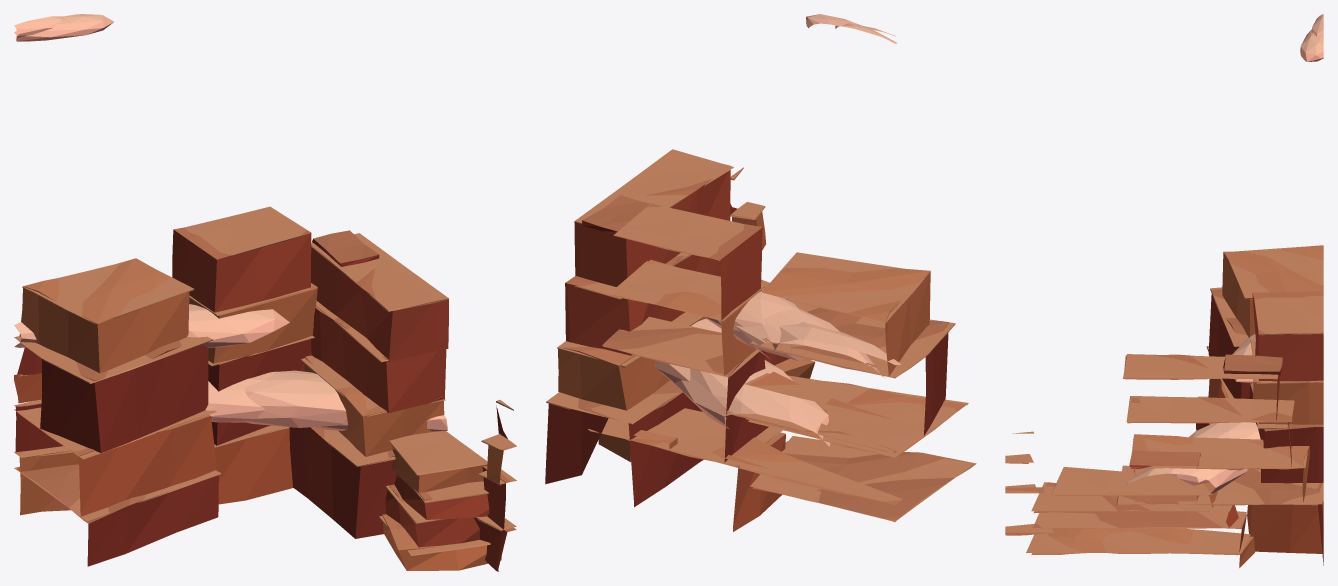
The picture shows the model from 3 angles, left to right: view 1: azimuth 30°, elevation 25°; view 2: azimuth 150°, elevation 25°; view 3: azimuth 270°, elevation 25°; orthographic projection. The views are drawn at different scales.
Visible parts, largest first — view 1: scene.5.1 (×2); view 2: scene.5.1 (×2); view 3: scene.5.1 (×2).
Boxes of the visible parts, bbox=[...] form: scene.5.1 (×2): bbox=[14, 14, 516, 571]; scene.5.1 (×2): bbox=[545, 14, 976, 531]; scene.5.1 (×2): bbox=[1005, 14, 1323, 567].
Bounding box in the file's own units: 62.5 × 91.93 × 62.5.
